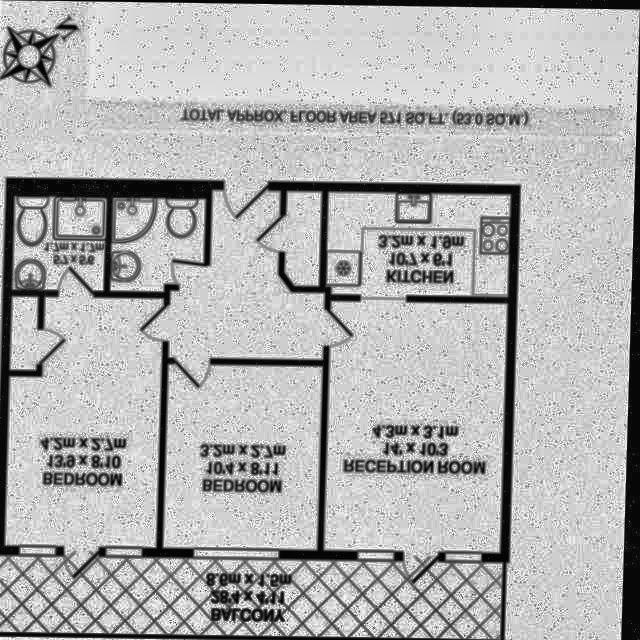room: (327, 298, 510, 554), (7, 294, 166, 549), (165, 361, 326, 552), (171, 189, 327, 359), (328, 191, 512, 296), (112, 196, 206, 293), (14, 197, 108, 291), (285, 189, 323, 286)
